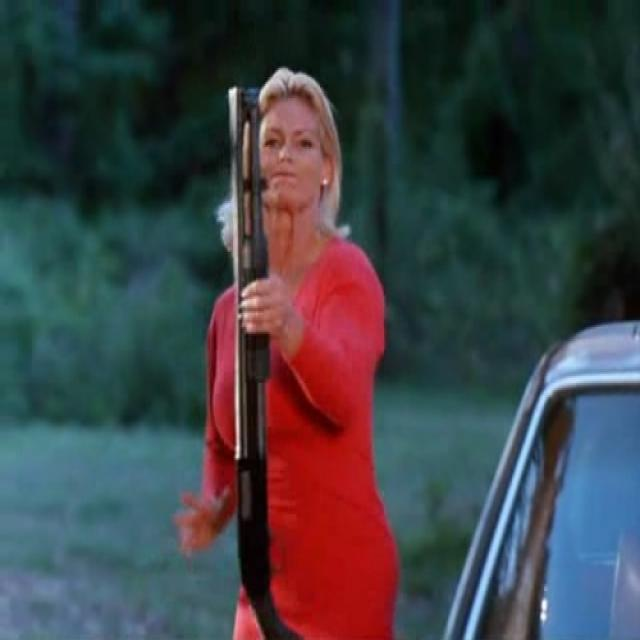rifle: (221, 81, 300, 640)
